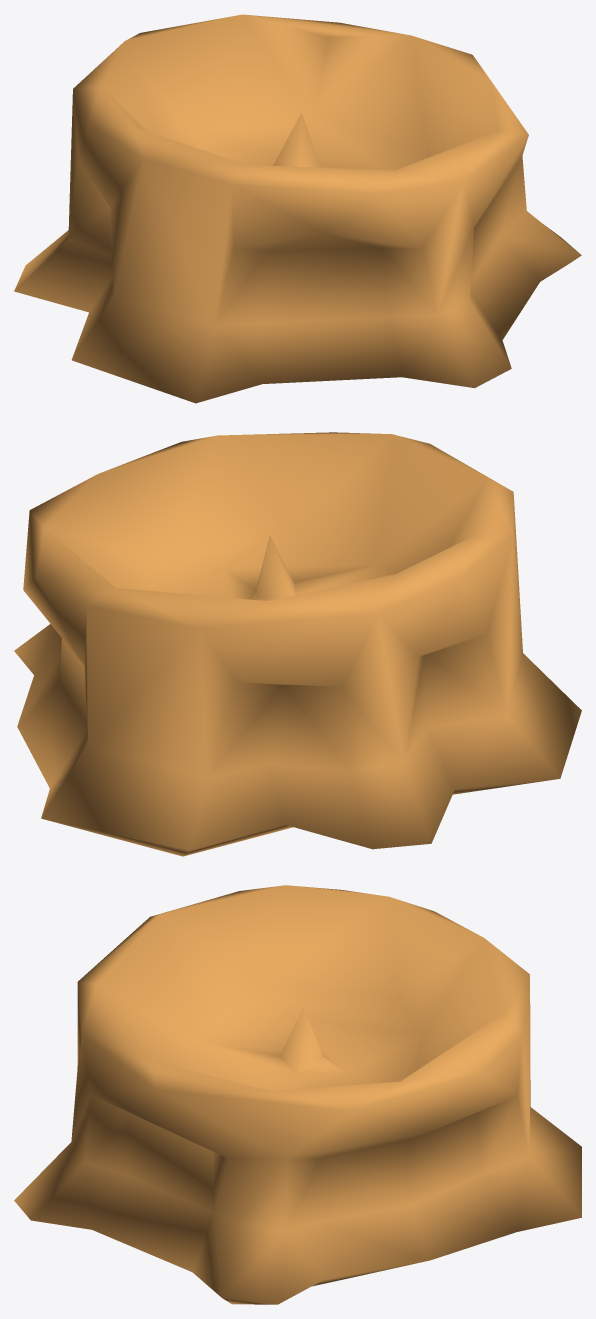
3 views of the same model, one above another, from view 1: azimuth 30°, elevation 25°; view 2: azimuth 150°, elevation 25°; view 3: azimuth 270°, elevation 25° (orthographic). The views are drawn at different scales.
Parts seen in each view (by area): view 1: Cylinder.004; view 2: Cylinder.004; view 3: Cylinder.004.
Boxes of the visible parts, x1,y1,x2,y2 form: Cylinder.004: (14, 14, 581, 403); Cylinder.004: (14, 432, 581, 856); Cylinder.004: (14, 885, 581, 1304).
Size of the model in its own units: 88 by 37.45 by 87.14.
